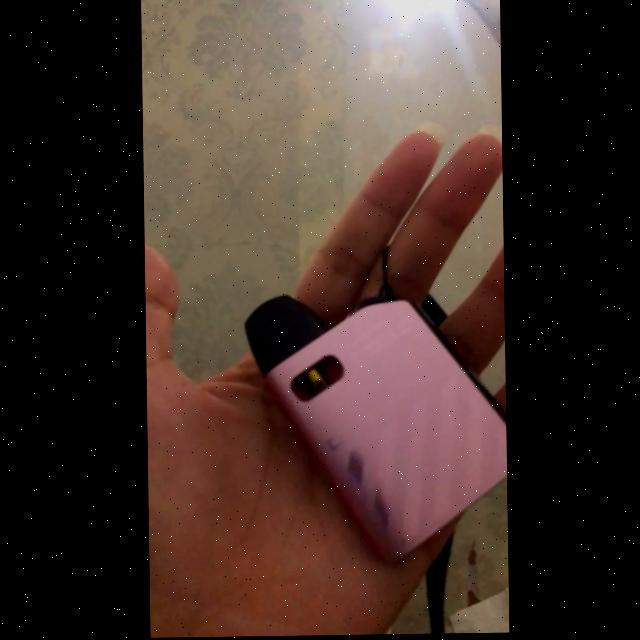vape: (242, 291, 506, 568)
